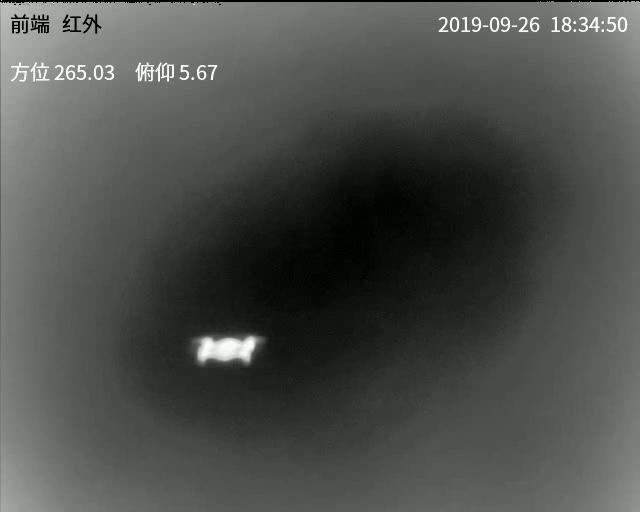DRONE: (193, 335, 260, 365)
